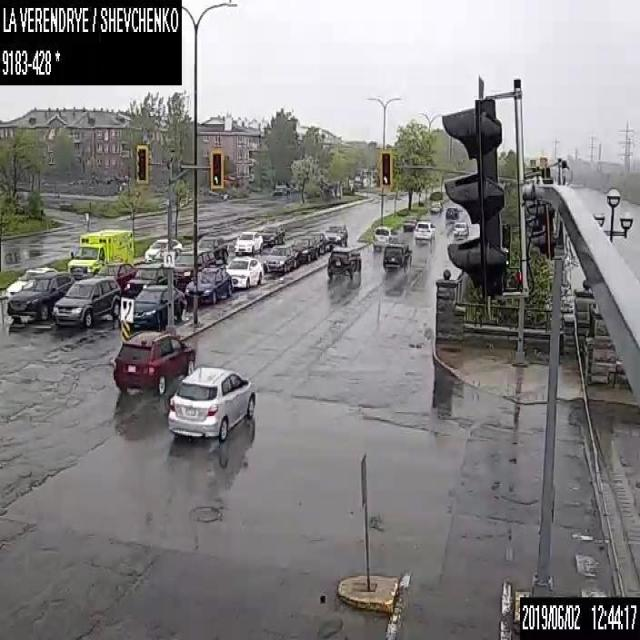vehicle: (168, 364, 255, 440), (113, 329, 195, 394), (51, 275, 120, 328), (6, 270, 75, 320), (66, 228, 134, 278), (130, 283, 185, 329), (5, 265, 58, 299), (184, 266, 231, 304), (172, 248, 215, 286), (124, 262, 167, 297), (94, 261, 137, 294), (224, 255, 263, 288), (326, 244, 361, 279), (263, 244, 298, 273), (144, 236, 181, 263), (382, 241, 412, 272), (196, 235, 228, 262), (290, 235, 318, 261), (233, 230, 262, 254), (373, 224, 397, 250), (324, 223, 347, 246), (260, 225, 284, 245), (413, 220, 435, 241), (308, 230, 327, 252), (402, 214, 419, 230), (453, 220, 468, 238), (445, 205, 458, 219), (429, 200, 442, 212), (353, 178, 362, 186)
